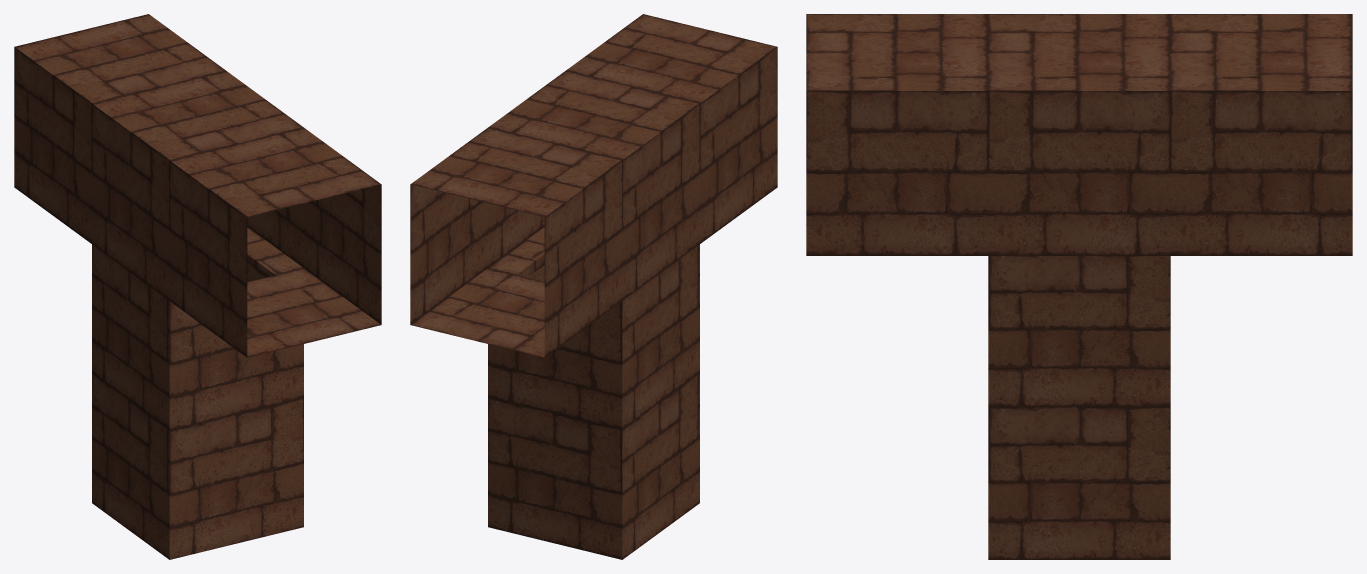
Rendered from CorridorTrap1.fbx.
3 renders of one model, left to right at view 1: azimuth 30°, elevation 25°; view 2: azimuth 150°, elevation 25°; view 3: azimuth 270°, elevation 25°, orthographic. The views are drawn at different scales.
Visible parts, largest first — view 1: Corridor_Trap_1x3; view 2: Corridor_Trap_1x3; view 3: Corridor_Trap_1x3.
Part boxes in pixels (x1,y1,x2,y2): Corridor_Trap_1x3: (14, 14, 381, 559); Corridor_Trap_1x3: (410, 14, 777, 559); Corridor_Trap_1x3: (806, 14, 1352, 559).
Size of the model in its own units: 66.08 by 198 by 188.
